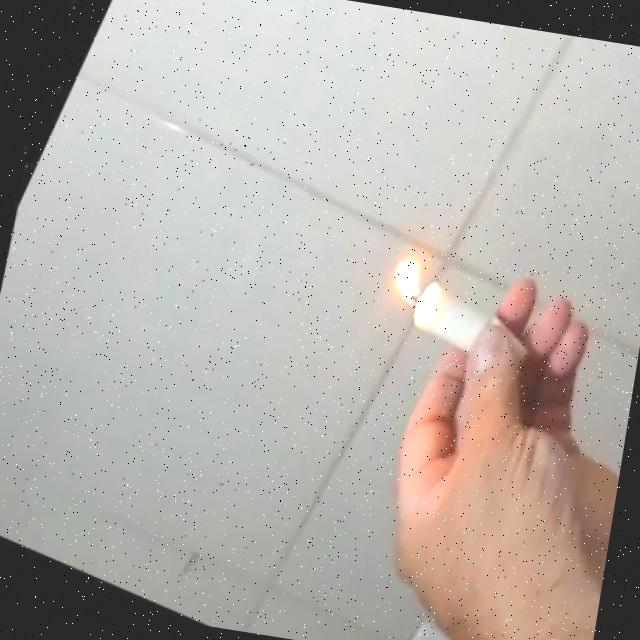fire: (374, 240, 434, 313)
